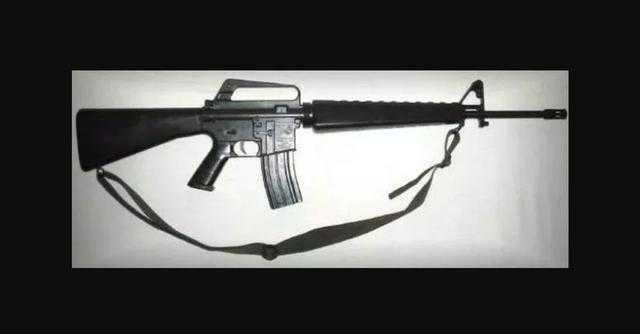heavyweapon: (76, 72, 566, 197)
